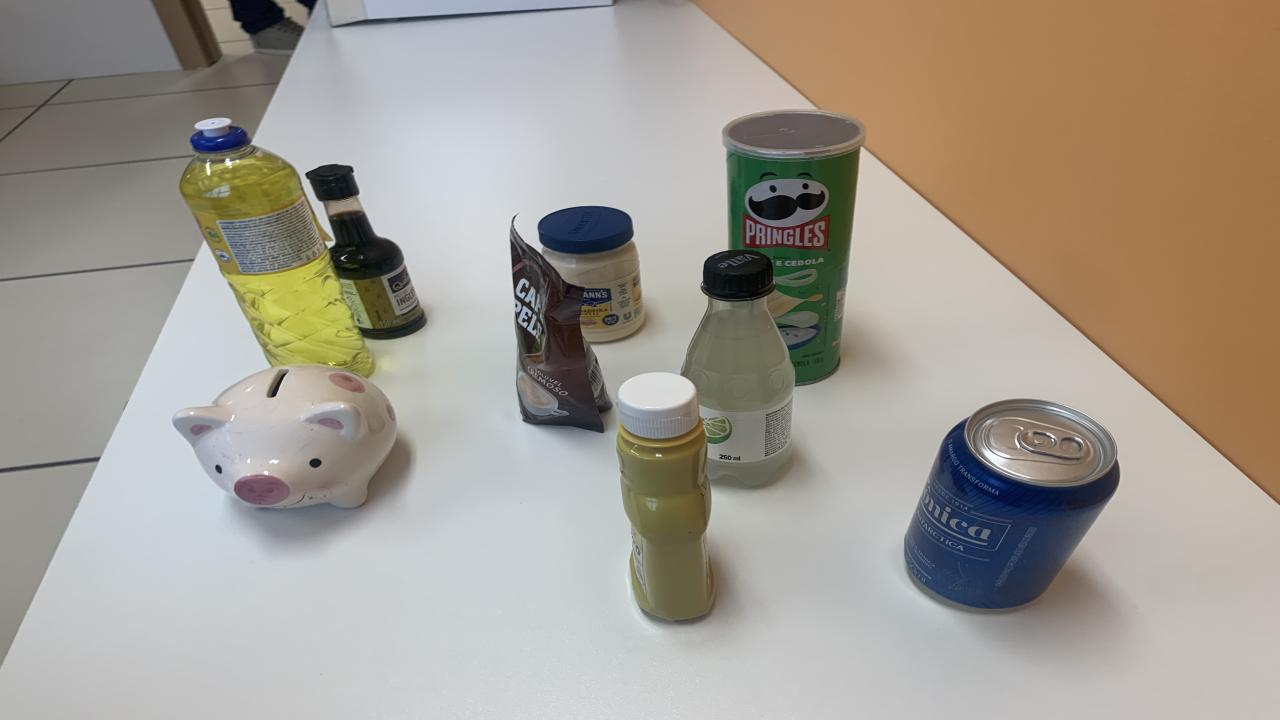Coffee-Pantry_Items: (510, 223, 612, 433)
Detergent-Cleanup_Items: (180, 118, 372, 375)
English_Sauce-Pantry_Items: (305, 165, 428, 339)
Mayonnaise-Pantry_Items: (538, 204, 645, 341)
Mustard-Pantry_Items: (618, 371, 715, 621)
Pig_Safe-Miscellaneous: (172, 364, 398, 508)
Soda-Drinks: (680, 249, 795, 486)
Tonic-Drinks: (905, 399, 1120, 609), (722, 109, 865, 382)
